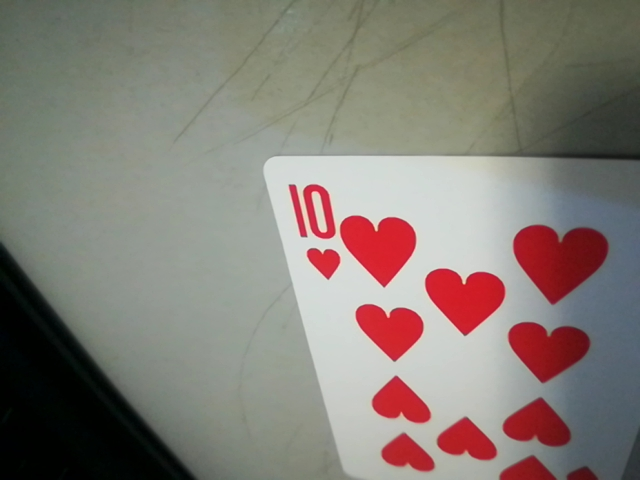hx 10: (276, 171, 342, 286)
